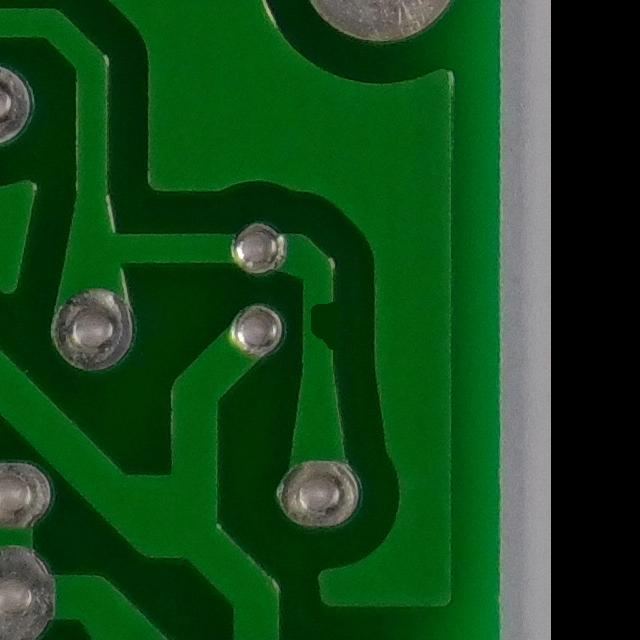mouse_bite: (286, 286, 354, 354)
